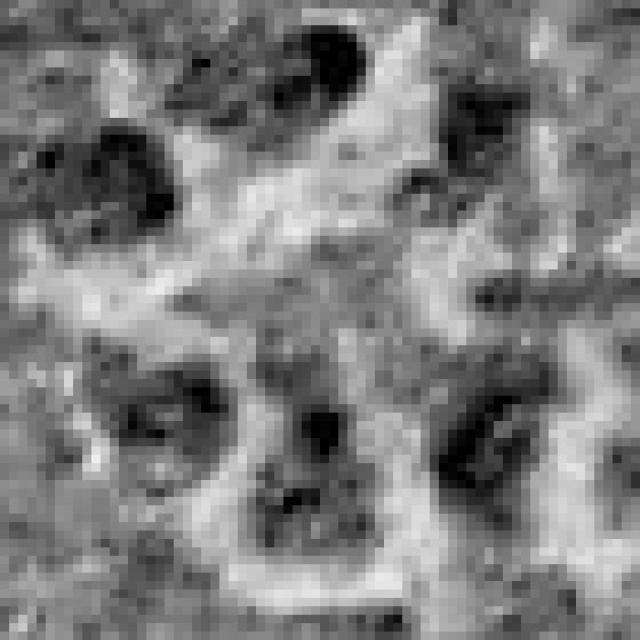inner: (172, 212, 452, 413)
lobe: (419, 335, 585, 548), (240, 400, 384, 583), (77, 347, 242, 503), (162, 22, 366, 147), (25, 117, 190, 258), (391, 70, 545, 220)
outer: (0, 1, 640, 622)
